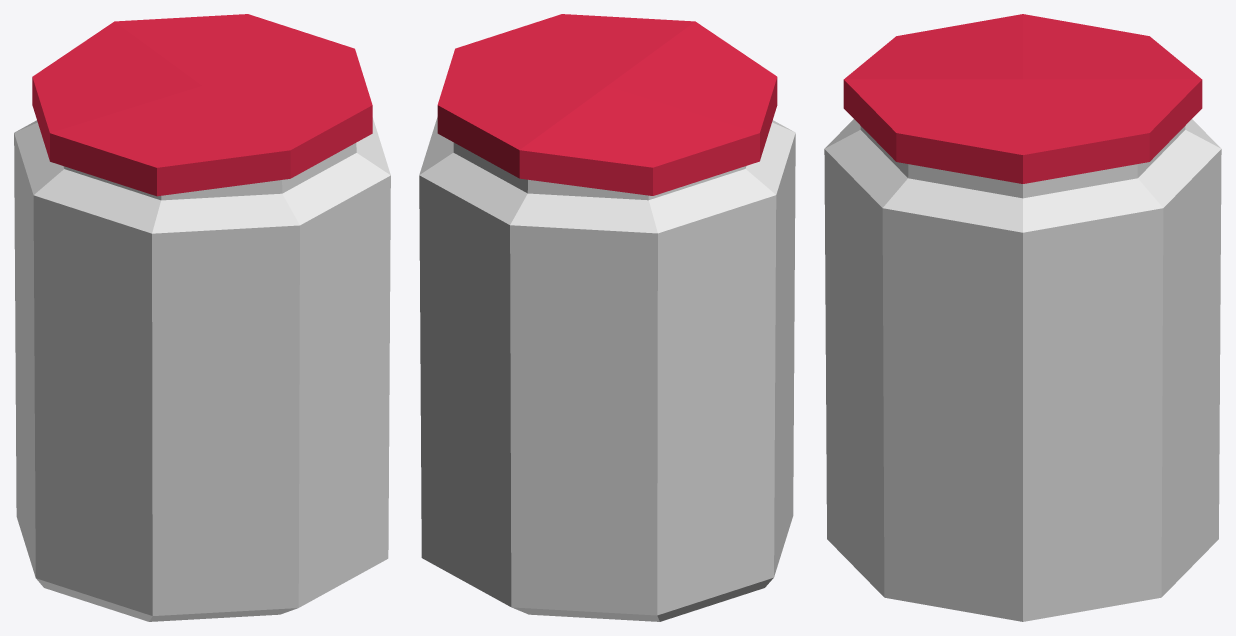
Rendered from M_ aliquotPart.fbx.
The picture shows the model from 3 angles, left to right: view 1: azimuth 30°, elevation 25°; view 2: azimuth 150°, elevation 25°; view 3: azimuth 270°, elevation 25°; orthographic projection.
Visible parts, largest first — view 1: M_ aliquotPart; view 2: M_ aliquotPart; view 3: M_ aliquotPart.
Part boxes in pixels (x1,y1,x2,y2): M_ aliquotPart: (14,14,390,621); M_ aliquotPart: (419,14,795,621); M_ aliquotPart: (824,14,1221,621).
Bounding box in the file's own units: 90.18 × 118 × 90.18.
